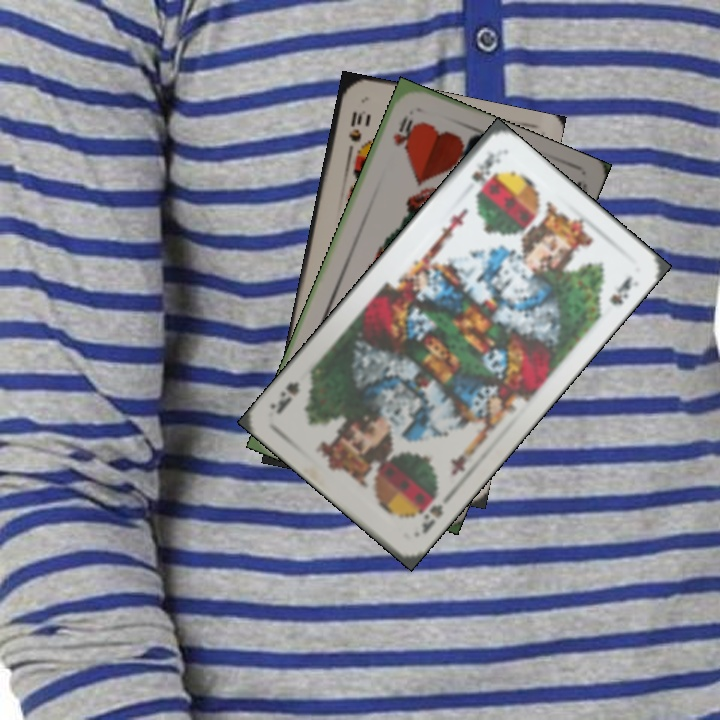HO: (388, 112, 417, 151)
S10: (343, 106, 369, 158)
SK: (467, 148, 504, 185), (417, 500, 446, 536)
